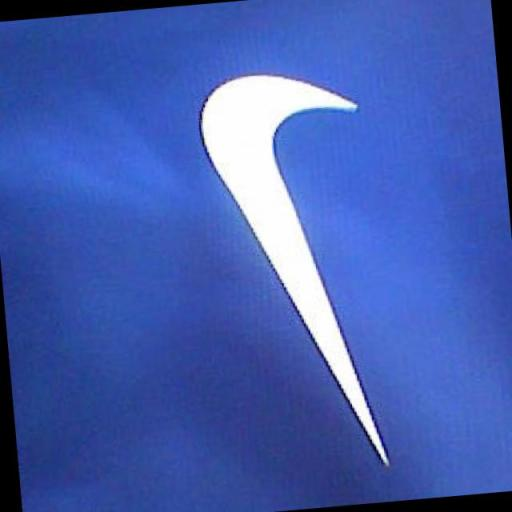Nike: (190, 60, 390, 484)
